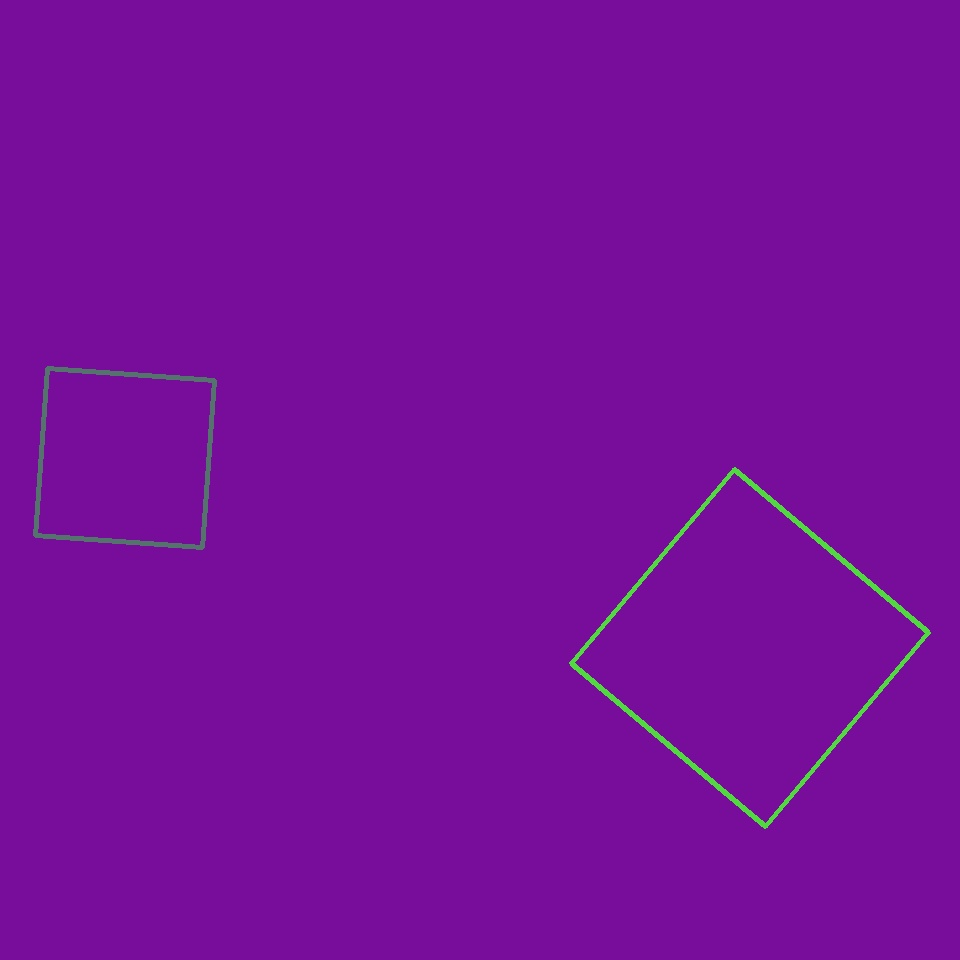square: (572, 470, 928, 826), (36, 369, 214, 548)
